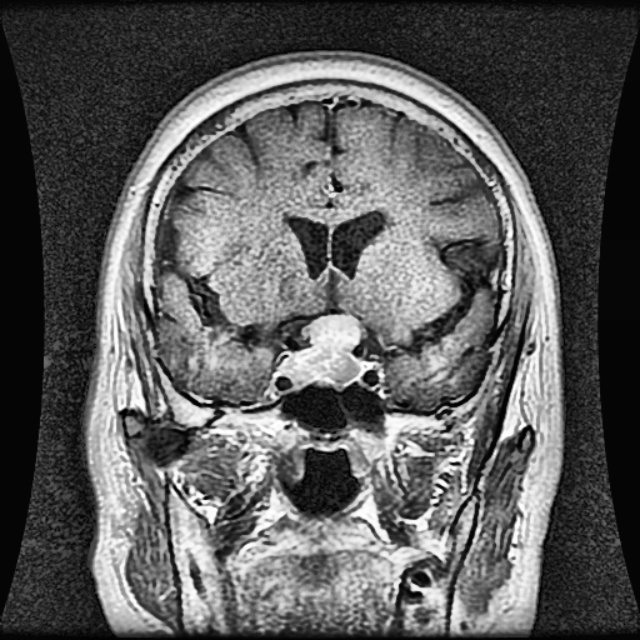Pituitary: (280, 310, 362, 382)
